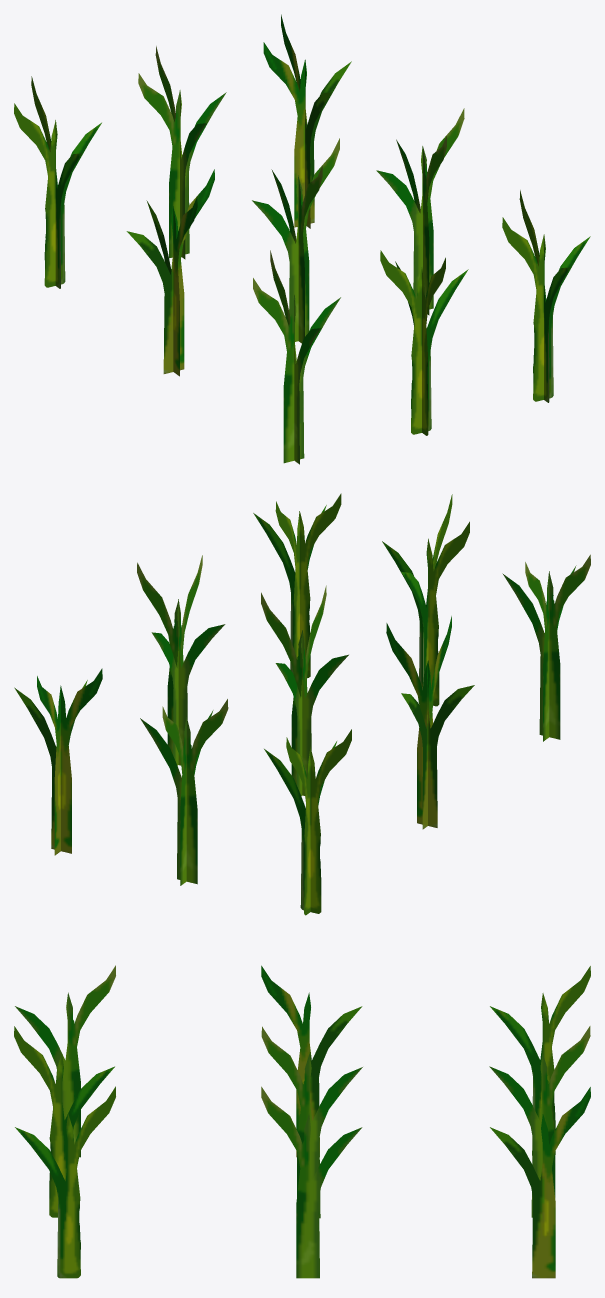
The model's file is Corn_Step01.fbx.
3 renders of one model, top to bottom at view 1: azimuth 30°, elevation 25°; view 2: azimuth 150°, elevation 25°; view 3: azimuth 270°, elevation 25°, orthographic.
Visible parts, largest first — view 1: Corn_Step01; view 2: Corn_Step01; view 3: Corn_Step01.
Part boxes in pixels (x1,y1,x2,y2): Corn_Step01: (14, 14, 590, 464); Corn_Step01: (14, 493, 590, 915); Corn_Step01: (14, 965, 590, 1278).
Size of the model in its own units: 116 by 62.48 by 170.
